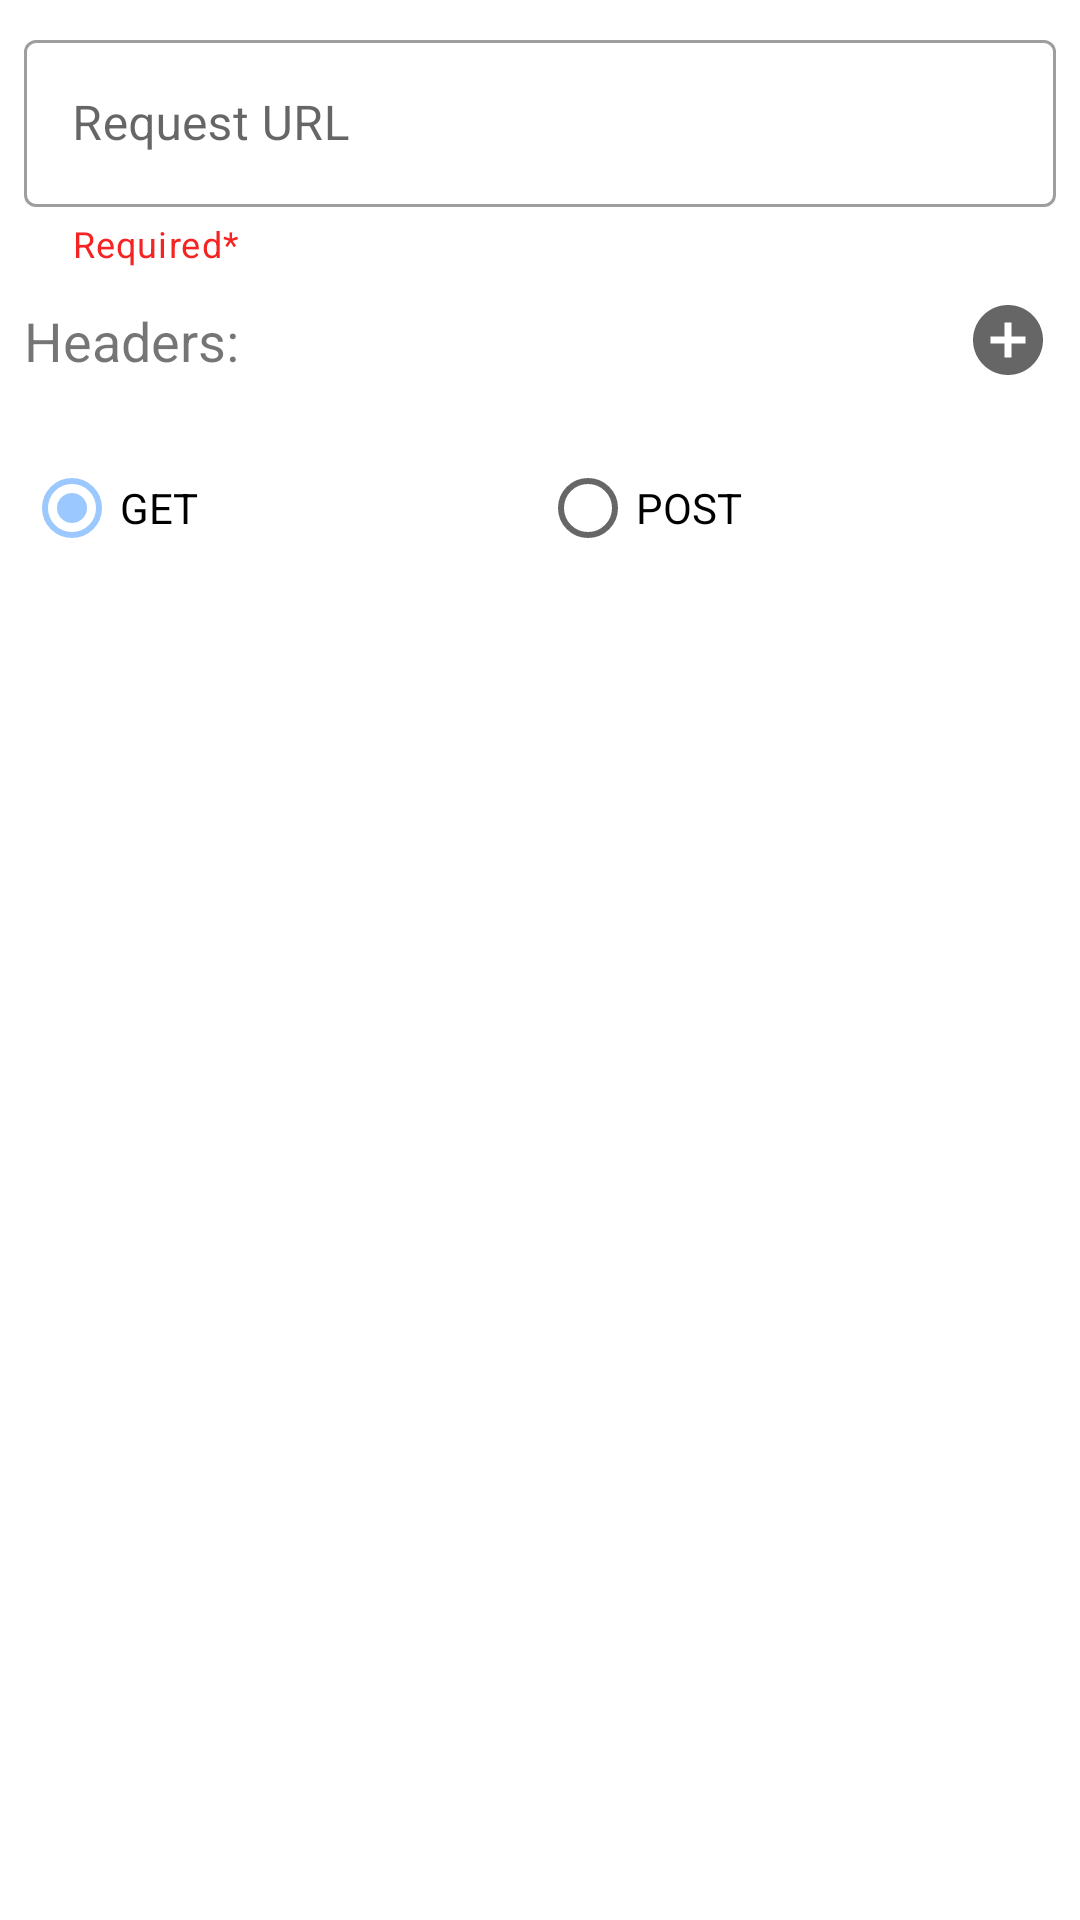

Icon bounding boxes for this 1080*1920 phone screenshot, format (x1, y1, x2, y2):
Add new header: (973, 305, 1043, 375)
